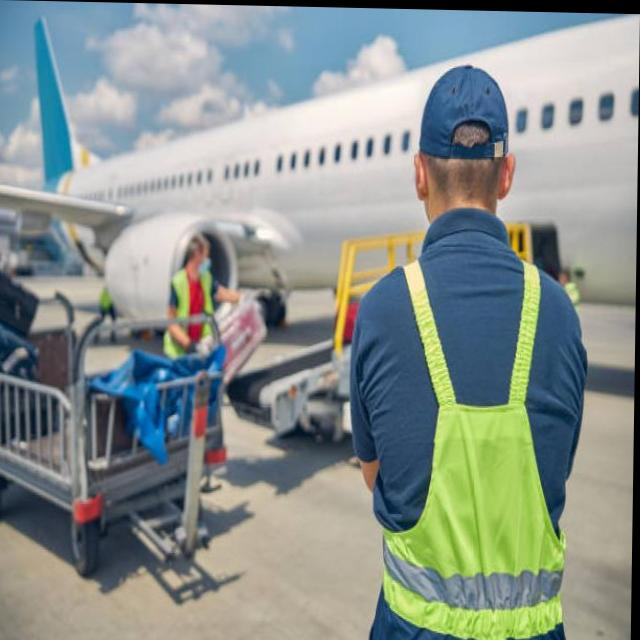no helmet: (405, 37, 516, 246)
